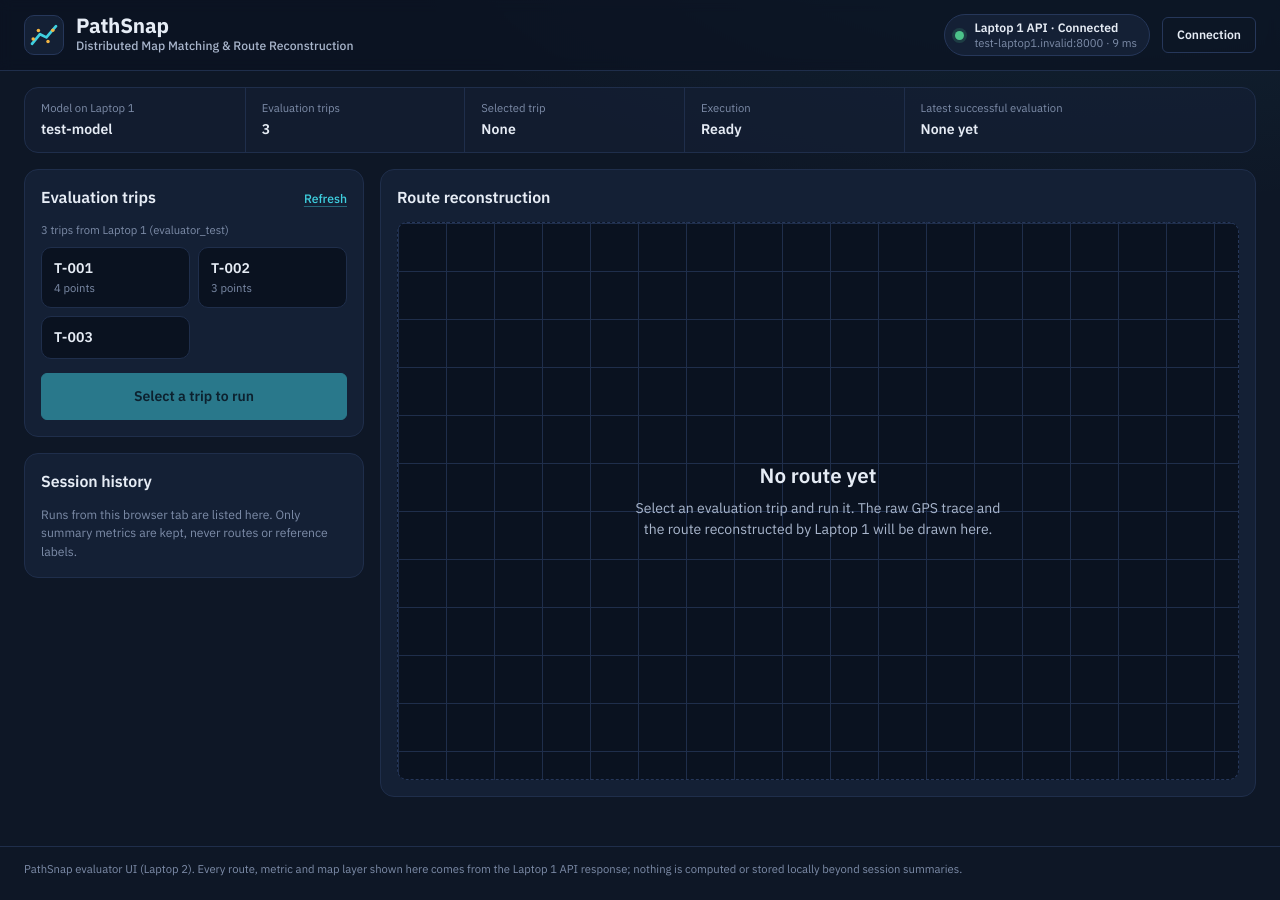
Test: evaluation flow › treats status "failed" in a 200 response as a failure
Click the radio button with test id "trip-T-001".
click(116, 277)  # box top-left (41, 247), bottom-right (190, 308)
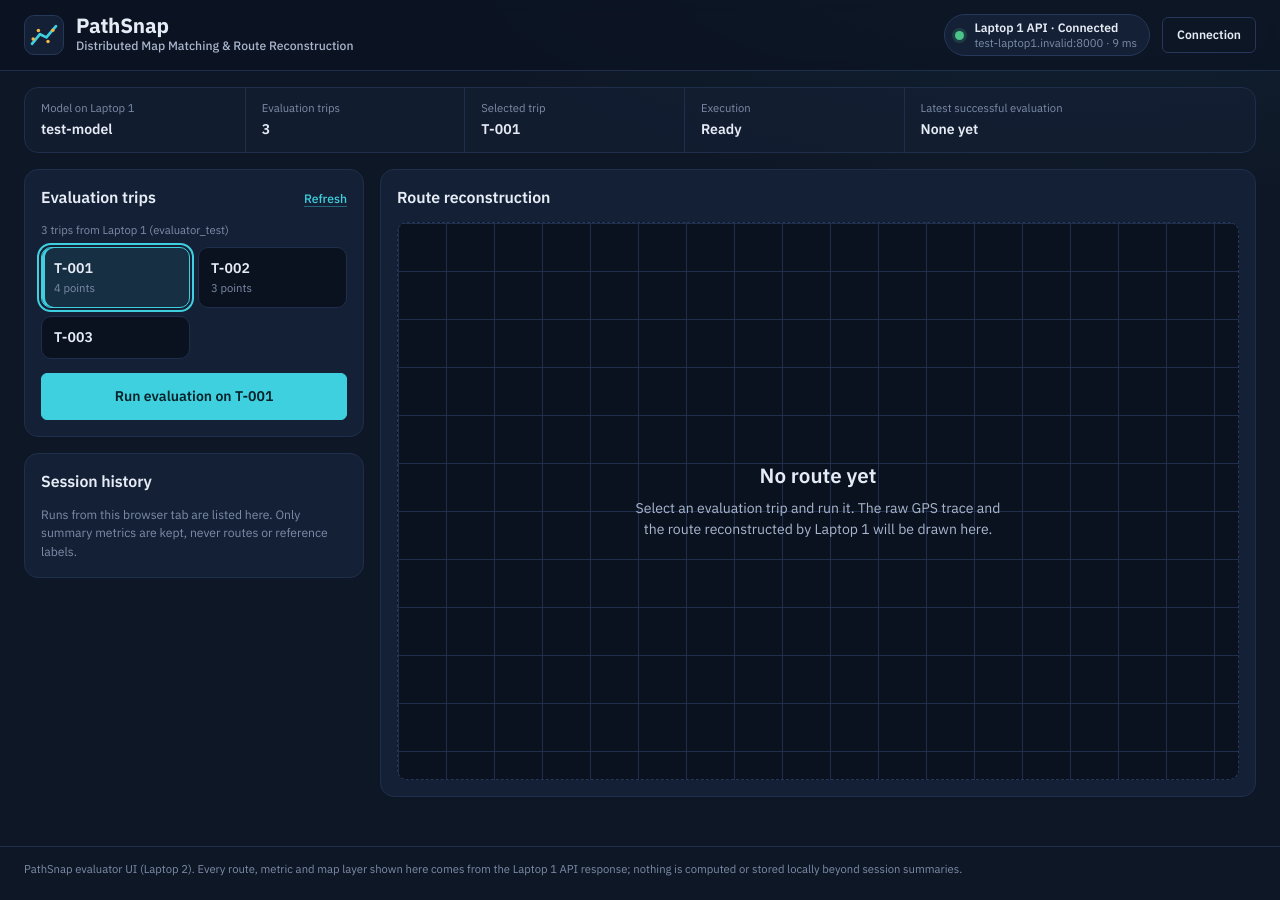
Click the button "Run evaluation on T-001".
click(194, 396)  # box top-left (41, 373), bottom-right (347, 420)
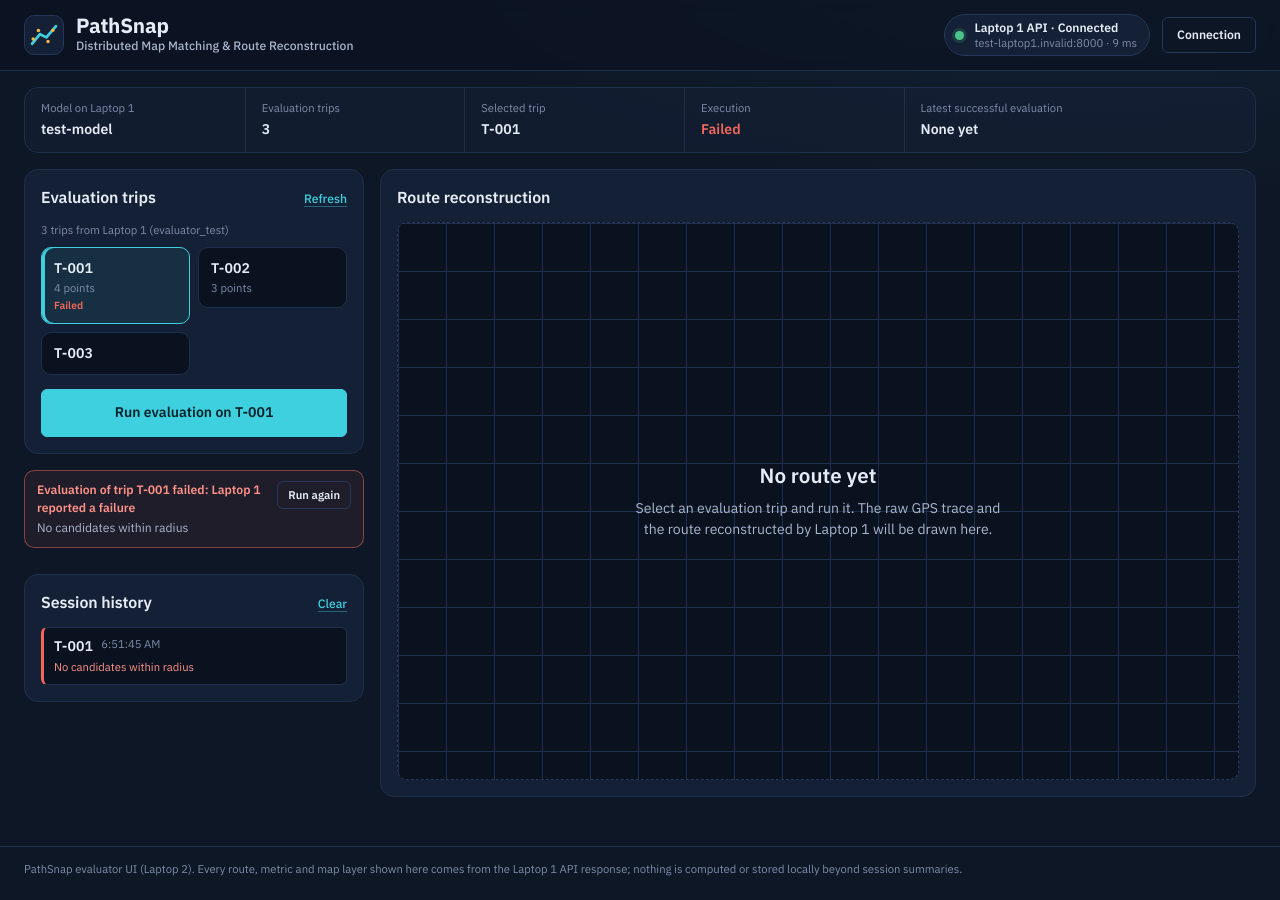
Expected: the text "Evaluation of trip T-001 failed: Laptop 1 reported a failure" is shown, top-left (37, 480), bottom-right (265, 517)
Expected: the 1st text "No candidates within radius" is shown, top-left (37, 520), bottom-right (188, 535)
